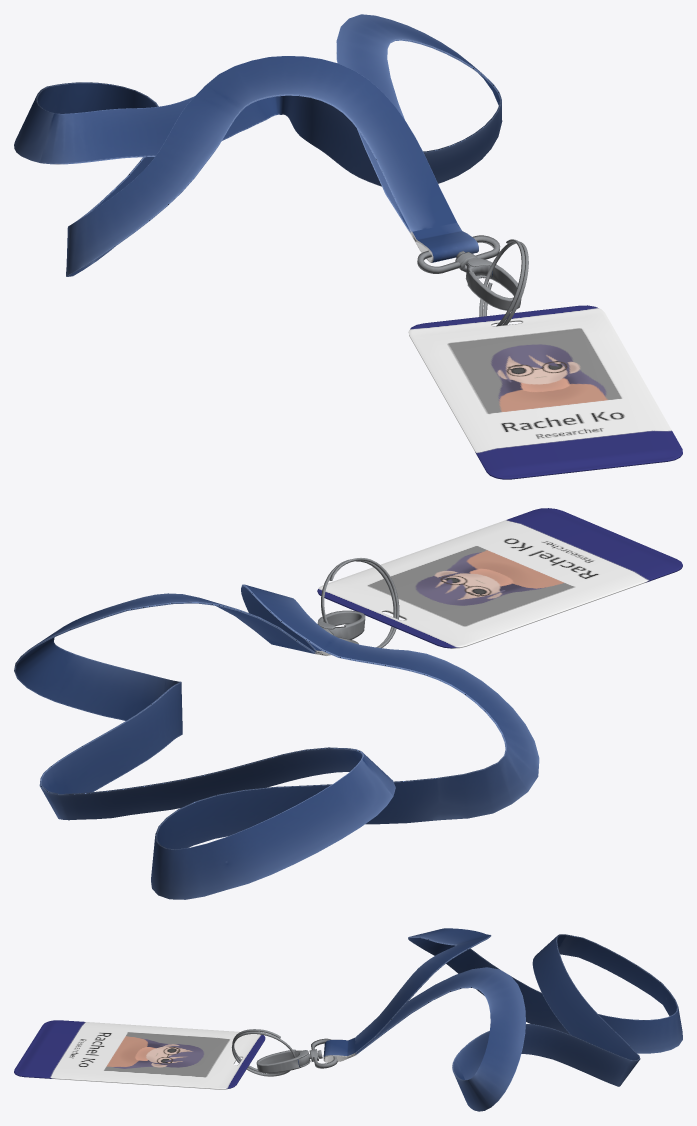
Rendered from SM_Prop_Clue_CardKey.fbx.
3 renders of one model, top to bottom at view 1: azimuth 30°, elevation 25°; view 2: azimuth 150°, elevation 25°; view 3: azimuth 270°, elevation 25°, orthographic. The views are drawn at different scales.
Parts seen in each view (by area): view 1: SM_Prop_Clue_CardKey; view 2: SM_Prop_Clue_CardKey; view 3: SM_Prop_Clue_CardKey.
Part boxes in pixels (left/top/right/bottom): SM_Prop_Clue_CardKey: left=14, top=14, right=682, bottom=479; SM_Prop_Clue_CardKey: left=14, top=508, right=682, bottom=899; SM_Prop_Clue_CardKey: left=14, top=928, right=682, bottom=1111.
Size of the model in its own units: 24.29 by 8.42 by 43.7.
Materials: 1 (1 with a texture image).
